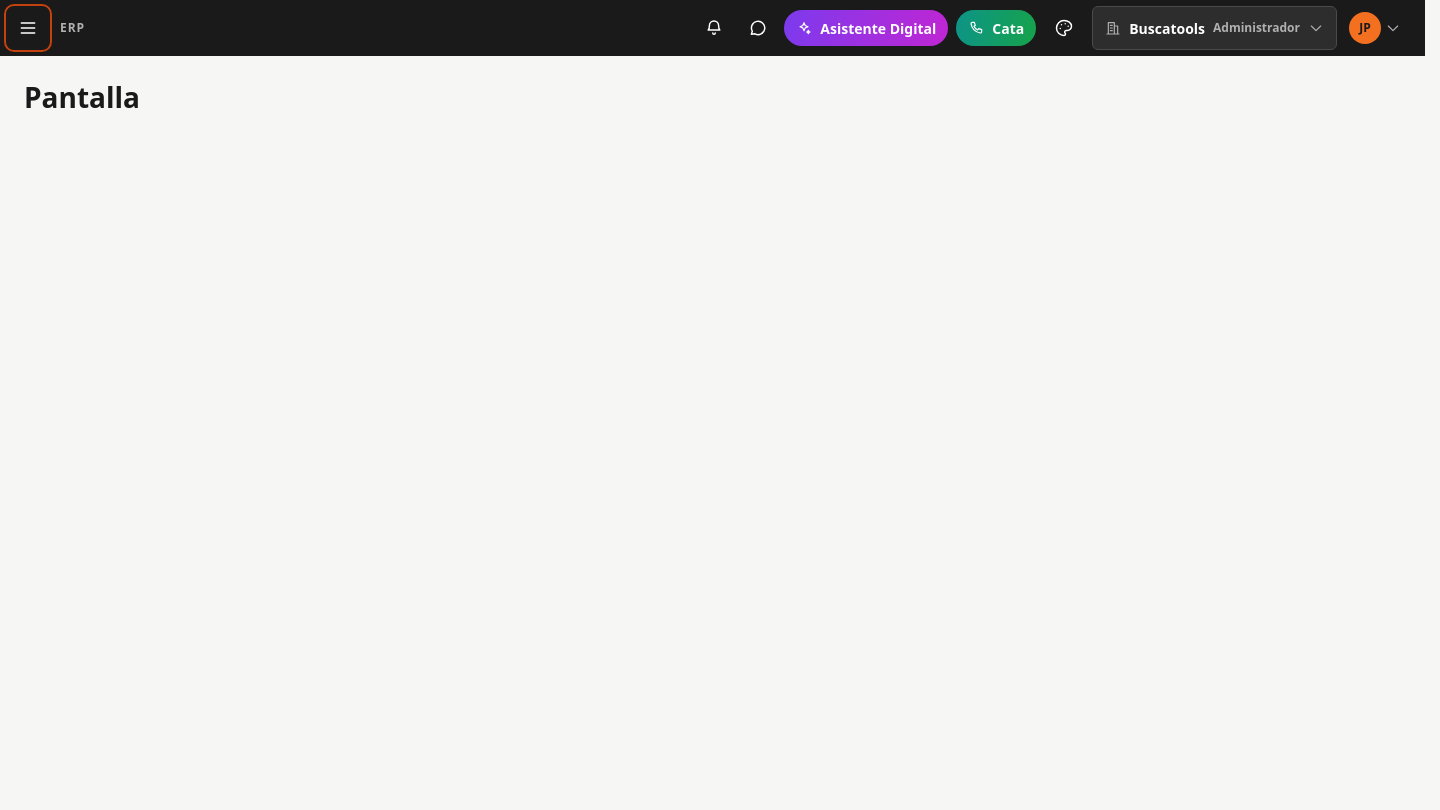
mobile < 768: cajón › hamburguesa abre; foco adentro; resto inert; Escape cierra y devuelve el foco
Click the button named "Abrir menú": (28, 28) [8,8,48,48]
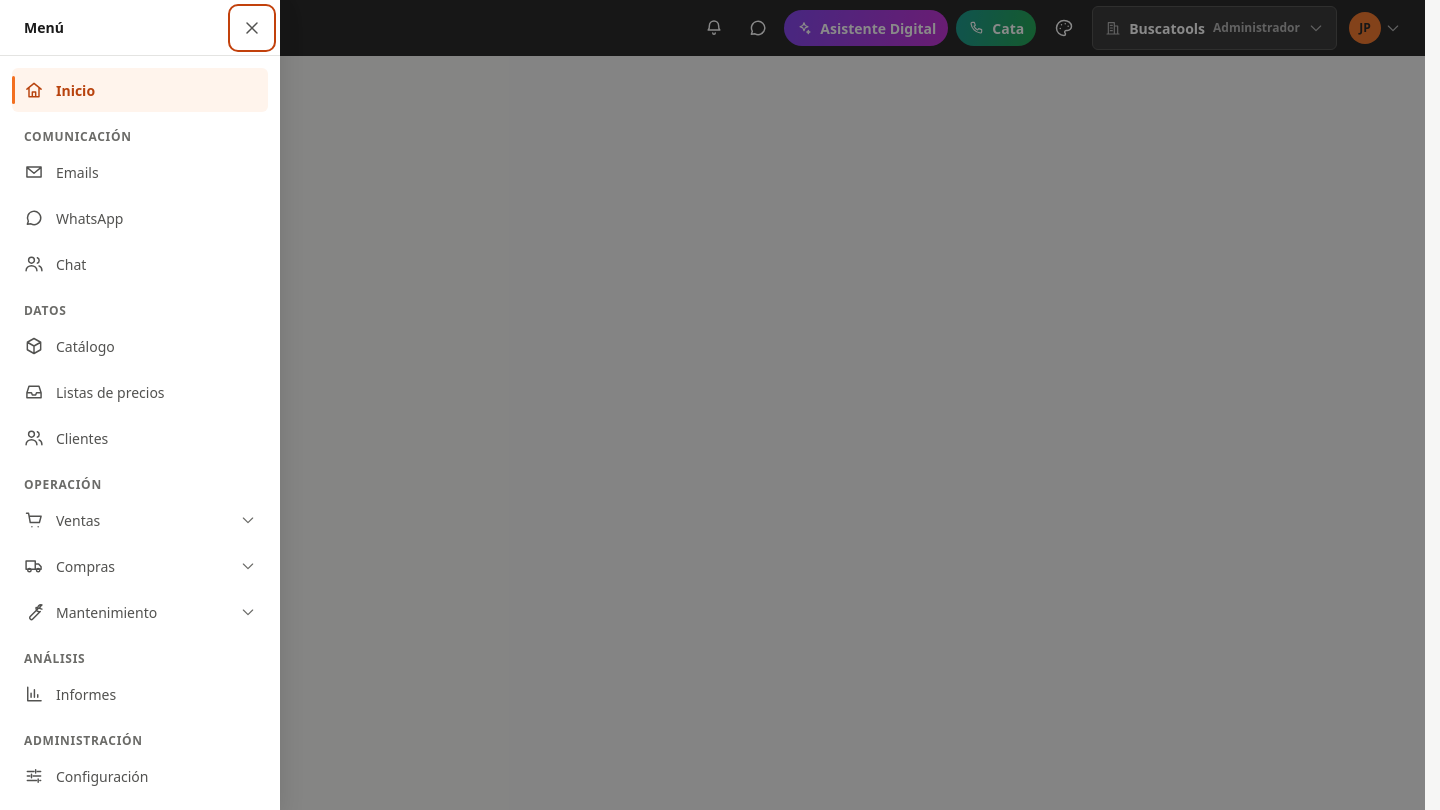
Expected: the element showing "Pantalla" has attribute inert, [24,78,140,116]
Expected: the header has attribute inert, [0,0,1425,56]
Press Escape
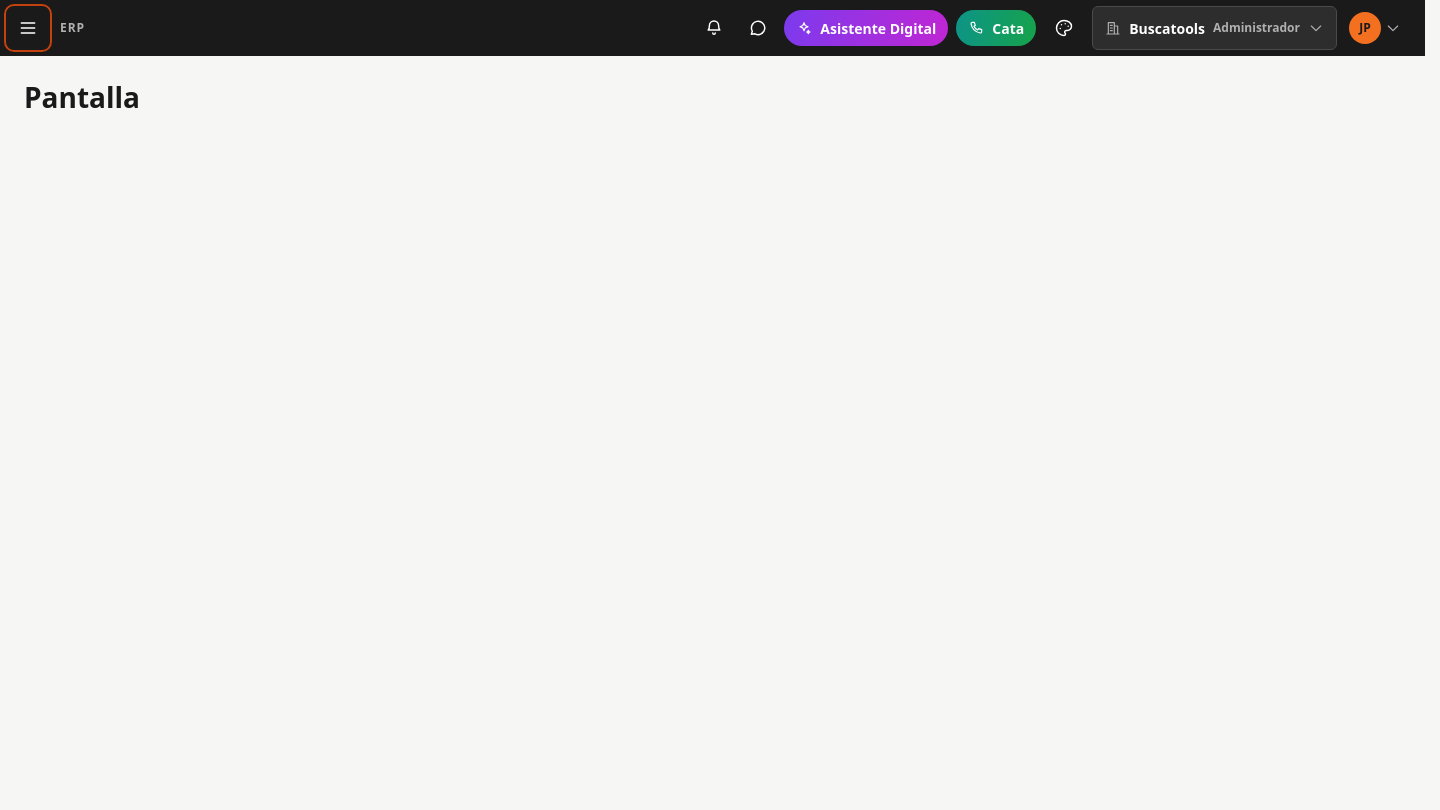
Expected: the dialog is gone
